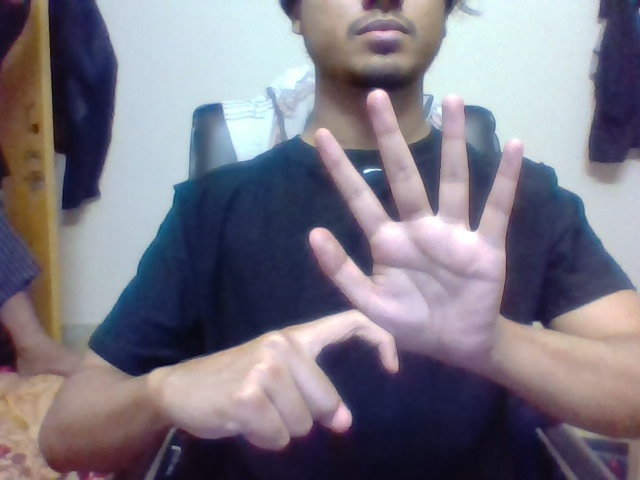R: (280, 302, 403, 437)
